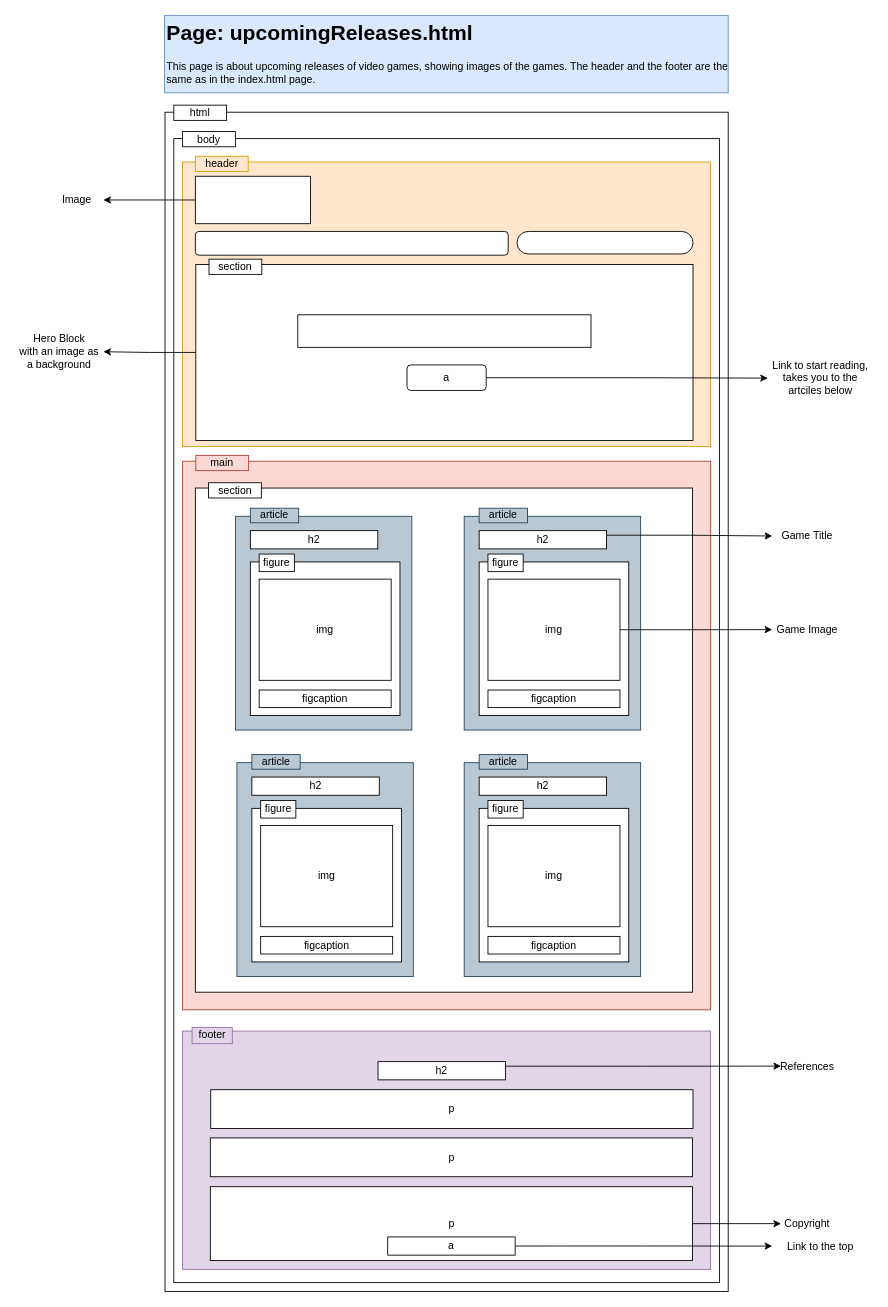
This 888x1307 diagram has some shape labels left out. The shapes that lost their labels are listed below. From the top down, each one's centre as x and y in pixels, then its label:
pixel 252 199: Logo
pixel 351 243: Navigation
pixel 604 242: Search bar
pixel 444 330: h1
